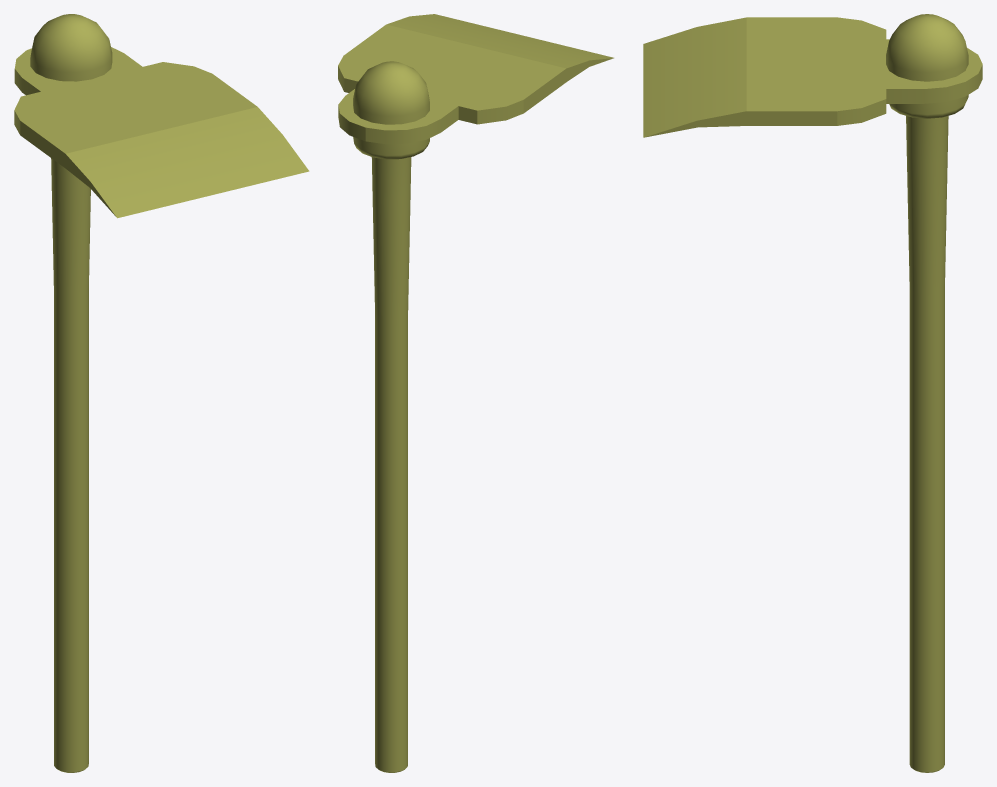
File: Peasant_Hoe.fbx
The picture shows the model from 3 angles, left to right: view 1: azimuth 30°, elevation 25°; view 2: azimuth 150°, elevation 25°; view 3: azimuth 270°, elevation 25°; orthographic projection. The views are drawn at different scales.
Visible parts, largest first — view 1: hoe; view 2: hoe; view 3: hoe.
Boxes of the visible parts, bbox=[...] form: hoe: bbox=[14, 14, 309, 772]; hoe: bbox=[338, 14, 613, 772]; hoe: bbox=[643, 14, 982, 772].
Size of the model in its own units: 43.39 by 161 by 66.38.
